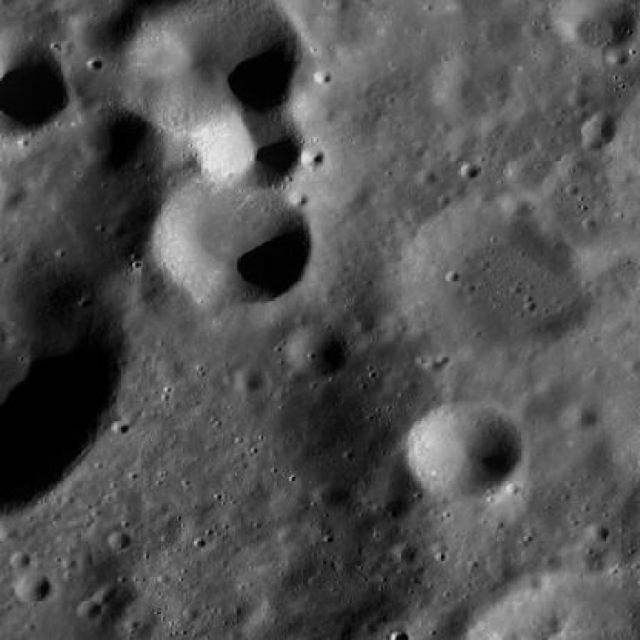crater: (0, 0, 229, 151), (0, 100, 182, 280), (398, 203, 587, 360), (120, 0, 302, 137), (152, 170, 314, 306), (483, 416, 623, 532), (403, 400, 519, 498), (194, 100, 303, 192), (0, 26, 69, 140), (434, 52, 514, 116), (554, 0, 637, 52), (77, 103, 148, 162), (569, 240, 637, 298), (286, 324, 348, 376), (69, 6, 131, 56), (290, 89, 338, 129), (368, 466, 414, 504), (506, 152, 552, 190), (510, 392, 552, 426), (15, 572, 52, 603), (566, 539, 602, 570), (554, 150, 590, 178), (168, 146, 202, 174), (500, 192, 534, 220), (560, 401, 594, 428), (313, 481, 347, 508), (0, 178, 26, 211), (443, 360, 474, 386), (377, 493, 408, 519), (584, 118, 614, 144), (233, 366, 262, 391), (260, 591, 288, 614), (536, 378, 562, 400), (78, 598, 102, 618), (301, 147, 324, 167), (582, 522, 606, 540), (108, 530, 132, 548), (396, 542, 418, 560), (607, 47, 627, 64), (286, 368, 306, 384), (523, 22, 543, 38), (12, 550, 30, 566), (582, 134, 600, 150), (462, 162, 480, 176), (417, 170, 435, 184), (0, 0, 3, 2)
